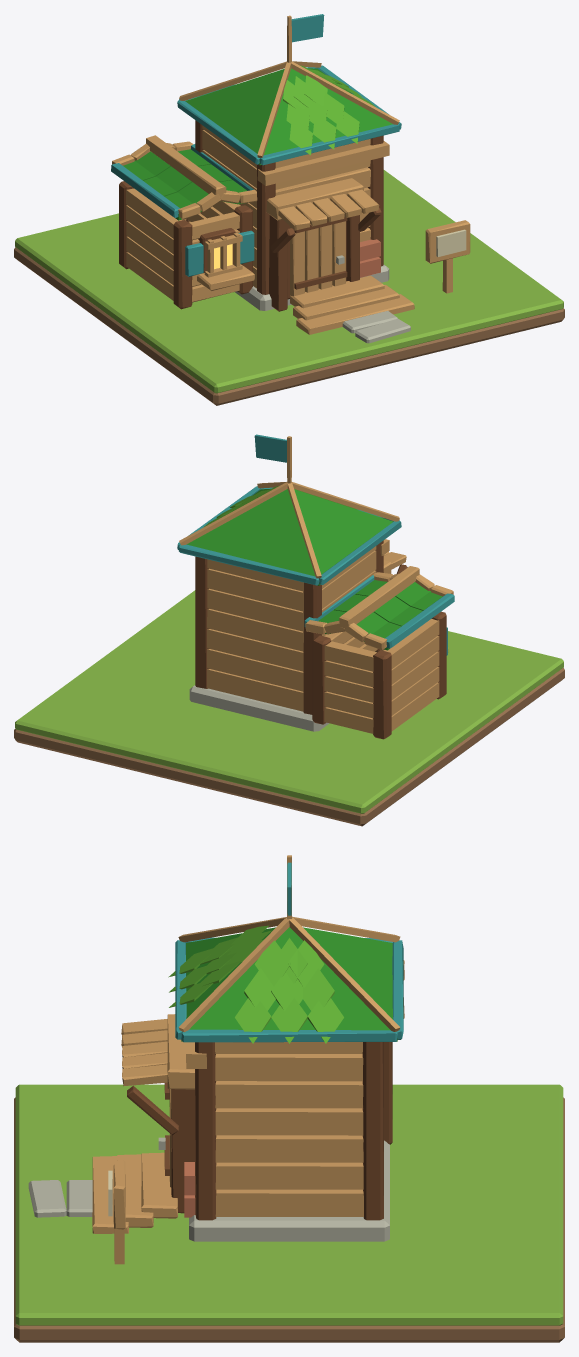
Rendered from town_hall_l03_active_LOD1.glb.
3 renders of one model, top to bottom at view 1: azimuth 30°, elevation 25°; view 2: azimuth 150°, elevation 25°; view 3: azimuth 270°, elevation 25°, orthographic. The views are drawn at different scales.
Visible parts, largest first — view 1: town_hall_l03_active_foundation.001, town_hall_l03_active_grass_tile.001, town_hall_l03_active_earth_tile.001, town_hall_l03_active_path_stone.005, town_hall_l03_active_path_stone.004; view 2: town_hall_l03_active_foundation.001, town_hall_l03_active_grass_tile.001, town_hall_l03_active_earth_tile.001; view 3: town_hall_l03_active_grass_tile.001, town_hall_l03_active_foundation.001, town_hall_l03_active_earth_tile.001, town_hall_l03_active_path_stone.005, town_hall_l03_active_path_stone.004.
Boxes of the visible parts, bbox=[...] form: town_hall_l03_active_foundation.001: bbox=[111, 14, 470, 334]; town_hall_l03_active_grass_tile.001: bbox=[15, 170, 563, 393]; town_hall_l03_active_earth_tile.001: bbox=[14, 247, 564, 405]; town_hall_l03_active_path_stone.005: bbox=[355, 318, 410, 343]; town_hall_l03_active_path_stone.004: bbox=[342, 311, 397, 333]; town_hall_l03_active_foundation.001: bbox=[177, 434, 454, 739]; town_hall_l03_active_grass_tile.001: bbox=[15, 590, 563, 813]; town_hall_l03_active_earth_tile.001: bbox=[14, 668, 564, 826]; town_hall_l03_active_grass_tile.001: bbox=[15, 1084, 563, 1325]; town_hall_l03_active_foundation.001: bbox=[92, 855, 404, 1264]; town_hall_l03_active_earth_tile.001: bbox=[14, 1097, 564, 1342]; town_hall_l03_active_path_stone.005: bbox=[28, 1180, 66, 1217]; town_hall_l03_active_path_stone.004: bbox=[66, 1180, 92, 1216].
Size of the model in its own units: 3.6 by 2.68 by 3.6.
